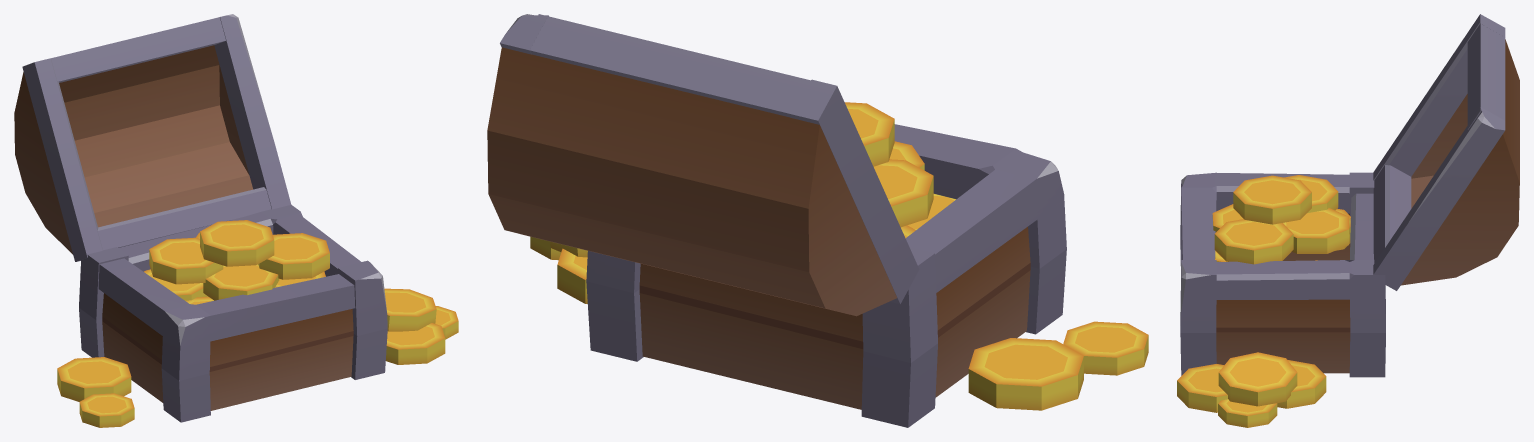
Rendered from Gold.fbx.
3 renders of one model, left to right at view 1: azimuth 30°, elevation 25°; view 2: azimuth 150°, elevation 25°; view 3: azimuth 270°, elevation 25°, orthographic. The views are drawn at different scales.
Visible parts, largest first — view 1: Gold; view 2: Gold; view 3: Gold.
Part boxes in pixels (box(x1,y1,x2,y2)): Gold: box(14, 14, 458, 427); Gold: box(487, 14, 1148, 427); Gold: box(1177, 14, 1519, 427).
Size of the model in its own units: 1.28 by 0.9693 by 0.8133.
